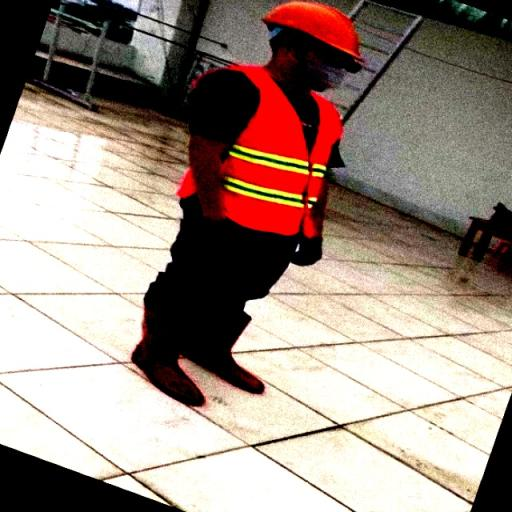Person: (122, 0, 372, 414)
boots: (130, 292, 210, 410), (213, 302, 291, 395)
gloves: (287, 205, 342, 282)
goggles: (256, 56, 407, 78)
helmet: (258, 0, 373, 54)
vest: (182, 73, 351, 233)
